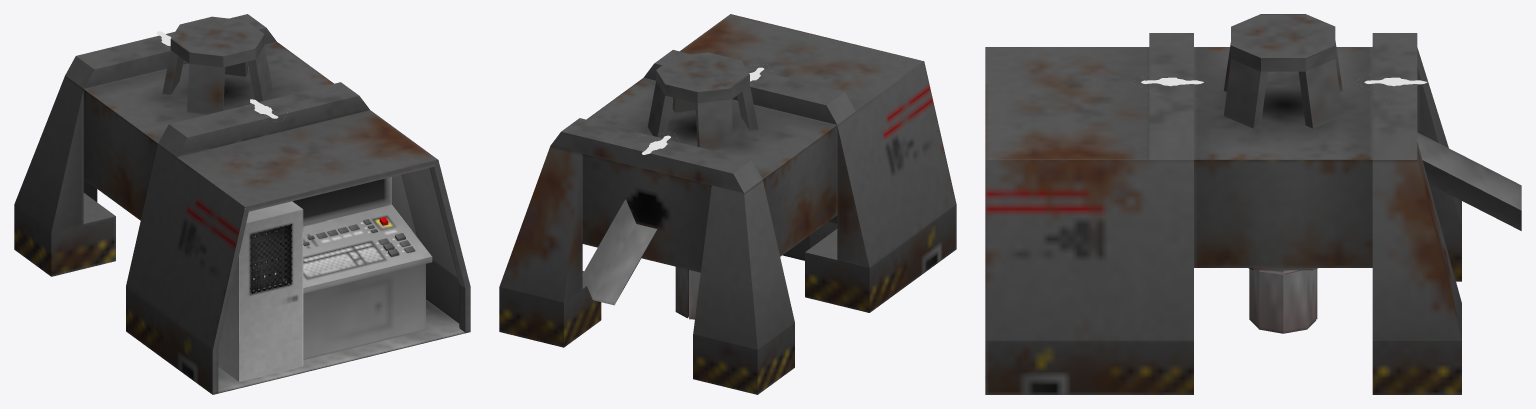
File: AutoMiner.obj
3 renders of one model, left to right at view 1: azimuth 30°, elevation 25°; view 2: azimuth 150°, elevation 25°; view 3: azimuth 270°, elevation 25°, orthographic. The views are drawn at different scales.
Visible parts, largest first — view 1: AutominerCore, AutominerGUI, ButtonsFixed; view 2: AutominerCore, ColResOutput, MinerPipe; view 3: AutominerCore, ColResOutput, MinerPipe.
Boxes of the visible parts, box(x1,y1,x2,y2) form: AutominerCore: box(14, 14, 470, 394); AutominerGUI: box(218, 177, 432, 381); ButtonsFixed: box(303, 217, 410, 256); AutominerCore: box(499, 14, 956, 394); ColResOutput: box(582, 199, 665, 305); MinerPipe: box(675, 267, 700, 319); AutominerCore: box(985, 14, 1461, 394); ColResOutput: box(1417, 132, 1521, 230); MinerPipe: box(1249, 269, 1317, 333).
Size of the model in its own units: 3 by 2.62 by 4.5.
3 materials, 2 textured.
